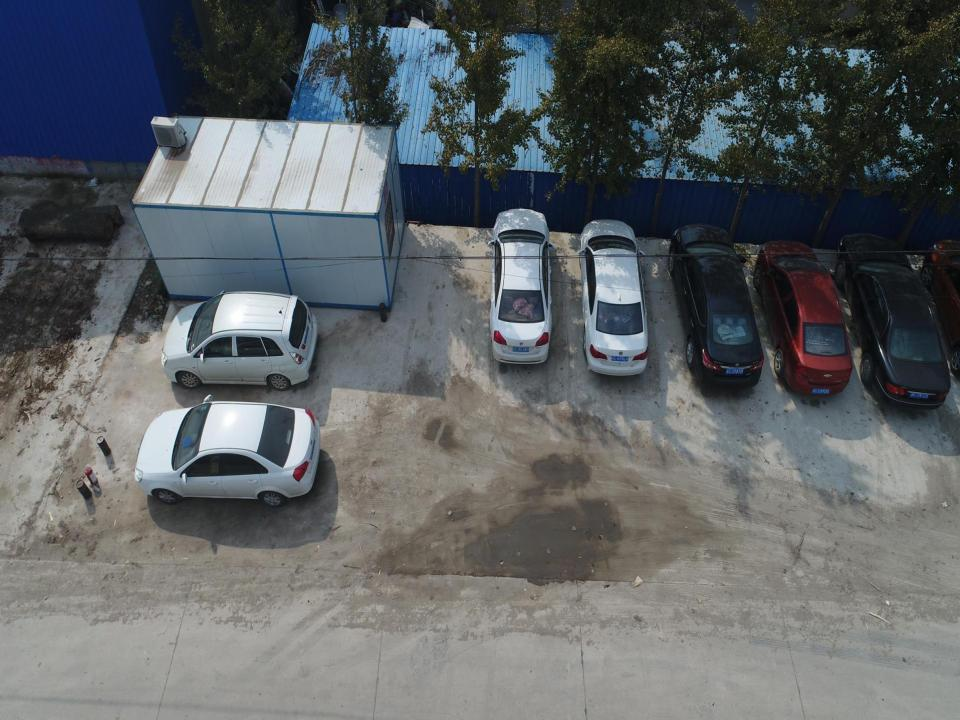car: (135, 396, 320, 505), (835, 234, 950, 409), (754, 240, 852, 401), (160, 291, 318, 390), (667, 223, 763, 384), (487, 208, 556, 366), (578, 219, 647, 377), (921, 238, 959, 381)
